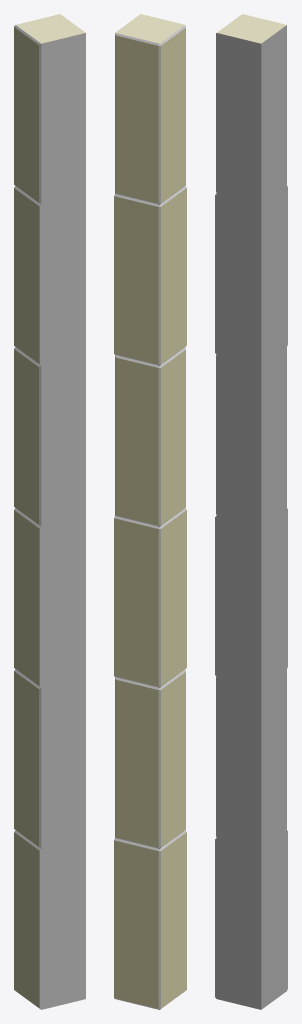
The model's file is ExteriorWall_EndCap_UL90_ExportPrep.gltf.
3 renders of one model, left to right at view 1: azimuth 30°, elevation 25°; view 2: azimuth 150°, elevation 25°; view 3: azimuth 330°, elevation 25°, orthographic.
Parts seen in each view (by area): view 1: ExteriorWall_EndCap_90; view 2: ExteriorWall_EndCap_90; view 3: ExteriorWall_EndCap_90.
Part boxes in pixels (x1,y1,x2,y2): ExteriorWall_EndCap_90: [14, 14, 85, 1009]; ExteriorWall_EndCap_90: [114, 14, 186, 1009]; ExteriorWall_EndCap_90: [215, 14, 287, 1009].
Size of the model in its own units: 0.15 by 3 by 0.15.
